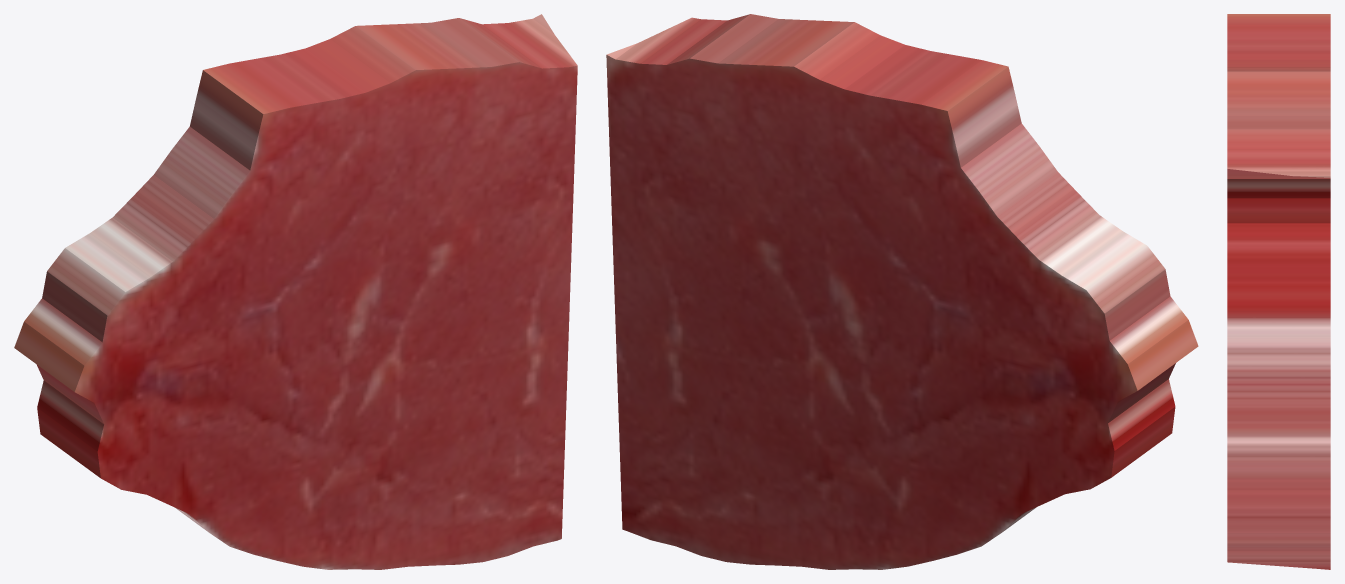
File: porkcut-3.fbx
3 renders of one model, left to right at view 1: azimuth 30°, elevation 25°; view 2: azimuth 150°, elevation 25°; view 3: azimuth 270°, elevation 25°, orthographic. The views are drawn at different scales.
Parts seen in each view (by area): view 1: Object_2; view 2: Object_2; view 3: Object_2.
Boxes of the visible parts, x1,y1,x2,y2 form: Object_2: [14, 14, 577, 569]; Object_2: [606, 14, 1198, 569]; Object_2: [1227, 14, 1330, 569].
Bounding box in the file's own units: 51.79 × 47.68 × 10.28.
